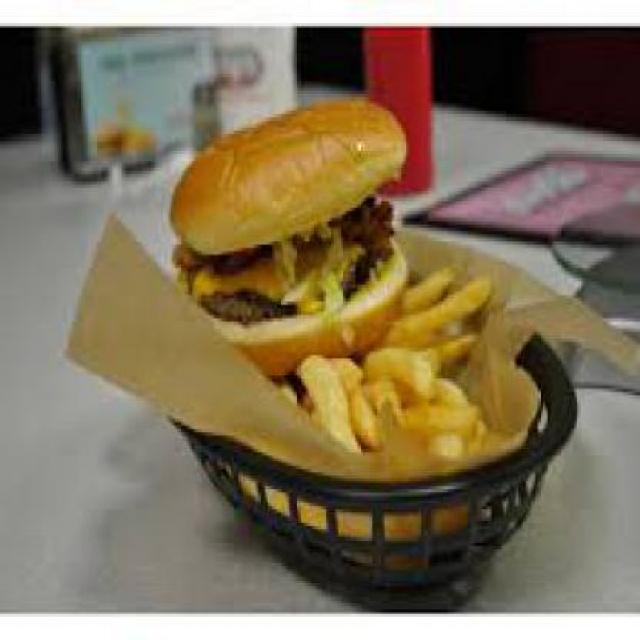french fries: (276, 268, 502, 472)
hamburger: (161, 90, 407, 365)
